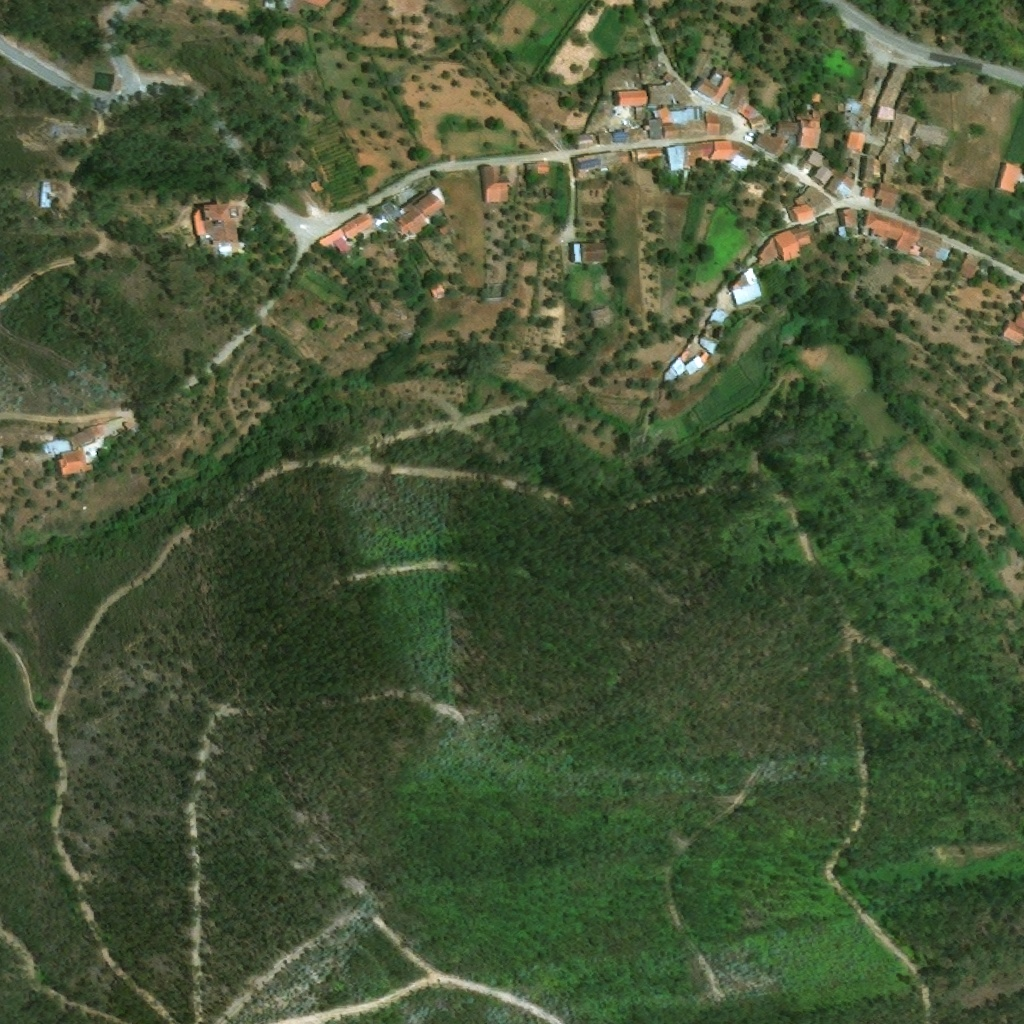0 no-damage: (395, 185, 447, 242), (864, 209, 924, 254), (318, 210, 381, 249), (754, 226, 811, 267), (669, 106, 733, 138), (788, 184, 834, 225), (809, 207, 860, 243), (199, 201, 239, 246), (811, 165, 856, 201), (875, 64, 910, 109), (573, 150, 622, 182), (729, 266, 764, 307), (777, 118, 823, 149), (694, 70, 736, 103), (481, 164, 514, 202), (660, 354, 703, 383), (718, 77, 752, 111), (665, 141, 702, 171), (69, 423, 109, 449), (912, 121, 950, 147), (727, 140, 756, 173), (995, 161, 1023, 195), (57, 448, 89, 476), (752, 132, 789, 156), (570, 240, 608, 263), (914, 230, 943, 259), (889, 113, 917, 143), (702, 139, 732, 166), (875, 182, 902, 209), (1003, 312, 1023, 344), (42, 436, 72, 457), (735, 99, 761, 121), (648, 85, 675, 106), (959, 253, 981, 278), (614, 89, 647, 105), (630, 148, 664, 163), (706, 306, 728, 328), (672, 78, 691, 102), (861, 156, 878, 181), (845, 96, 864, 116), (427, 280, 446, 299), (697, 336, 715, 356), (977, 263, 997, 281), (748, 114, 769, 131), (648, 117, 664, 139), (847, 131, 863, 152), (525, 160, 549, 174), (872, 105, 893, 121), (39, 178, 50, 208), (381, 200, 400, 217), (575, 132, 596, 147), (842, 111, 860, 128), (879, 146, 896, 163), (438, 220, 456, 236), (795, 111, 821, 122), (871, 118, 890, 133), (937, 244, 952, 262), (625, 129, 645, 142), (663, 124, 680, 138), (612, 106, 630, 119), (309, 178, 324, 193), (597, 131, 613, 145), (907, 146, 921, 162), (883, 162, 894, 180), (634, 106, 648, 120), (865, 143, 880, 156), (612, 130, 626, 143), (808, 91, 822, 104), (861, 186, 875, 197), (218, 245, 233, 255), (838, 225, 848, 237), (699, 351, 708, 361)
4 un-classified: (300, 0, 329, 10), (282, 0, 304, 13), (262, 0, 276, 8), (0, 450, 5, 458)
